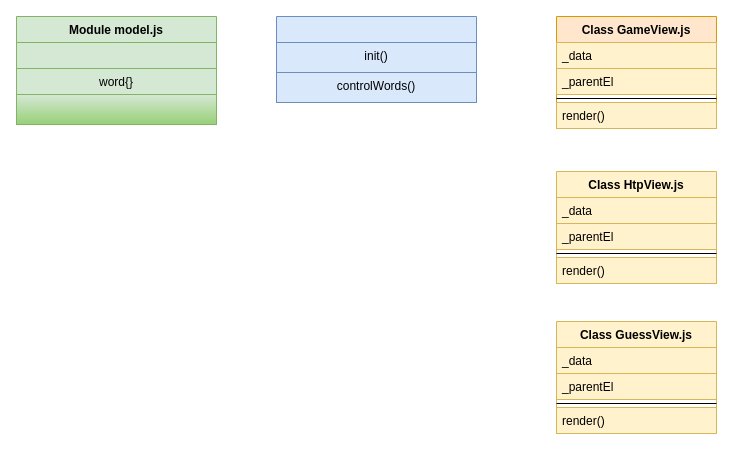
This 733x450 diagram has some shape labels left out. The box of each missing label's shape, as (x1, y1, x2, y2) in pixels:
export loadWord(): (16, 94, 216, 124)
export state: (16, 42, 216, 94)
Module controller.js: (276, 16, 476, 102)
